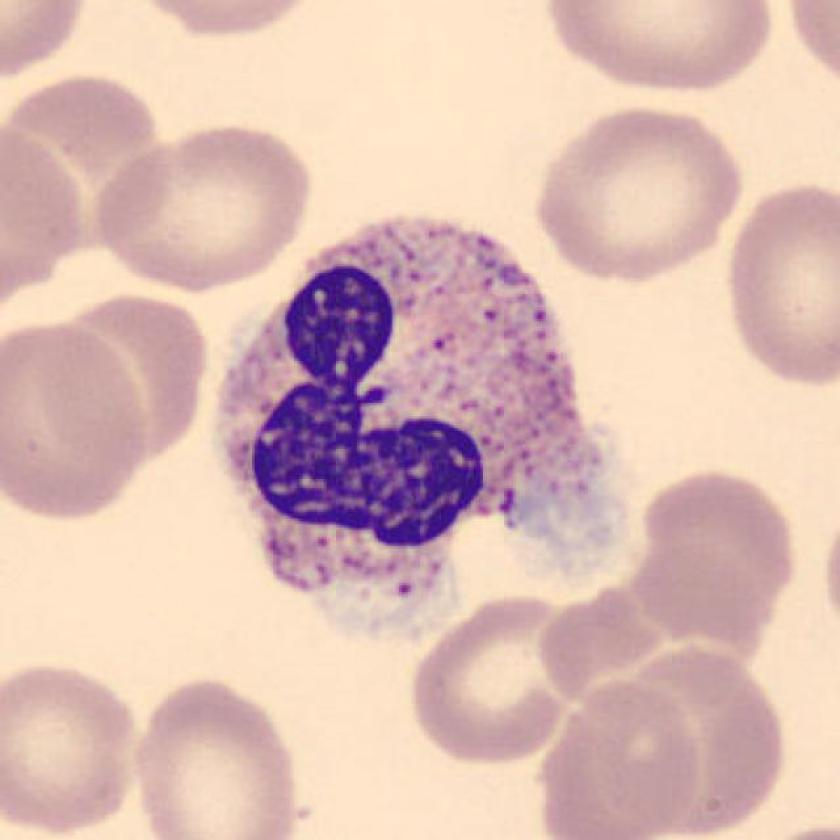neutrophil: (223, 212, 596, 655)
